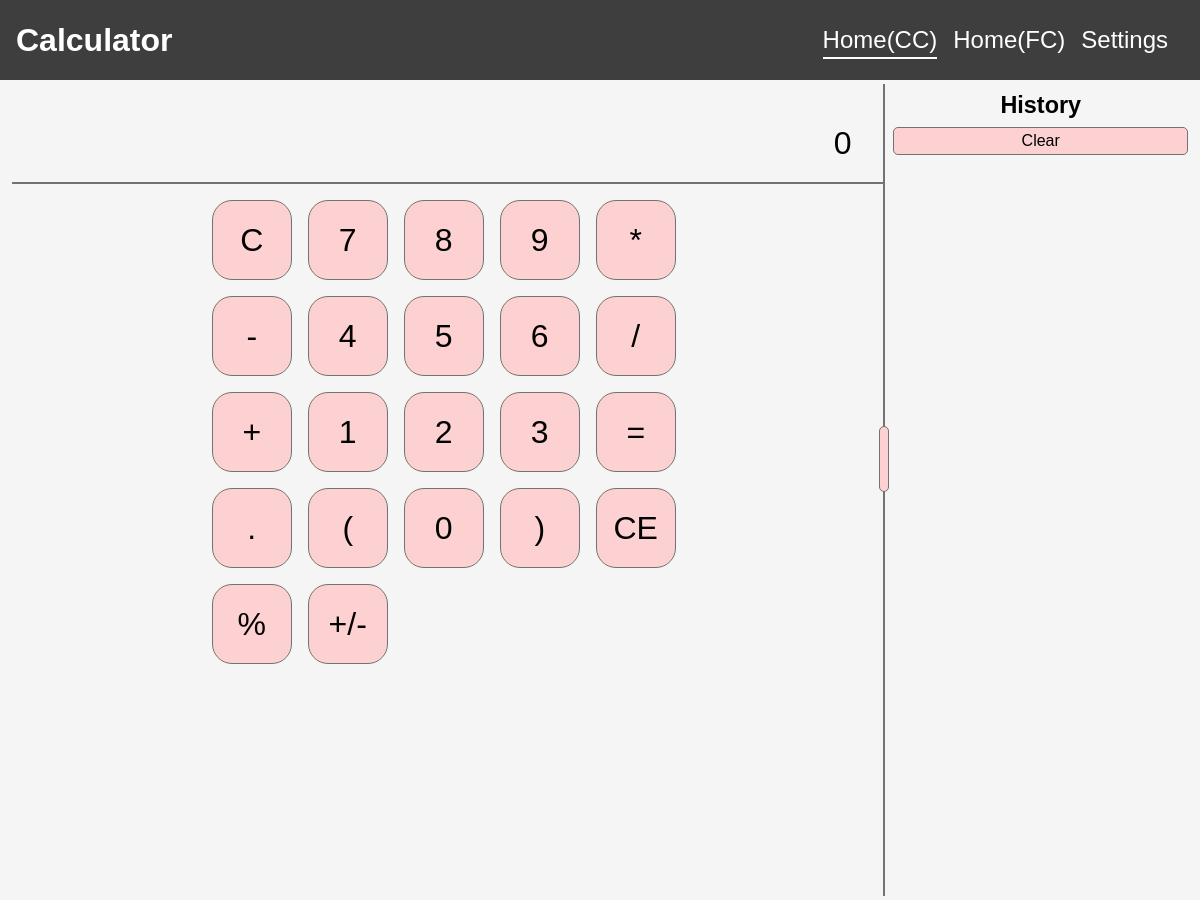
Test: Display › should render new negative values wrapped with brackets
Click the button with test id "button-8".
click(444, 240)  # box [404,200,484,280]
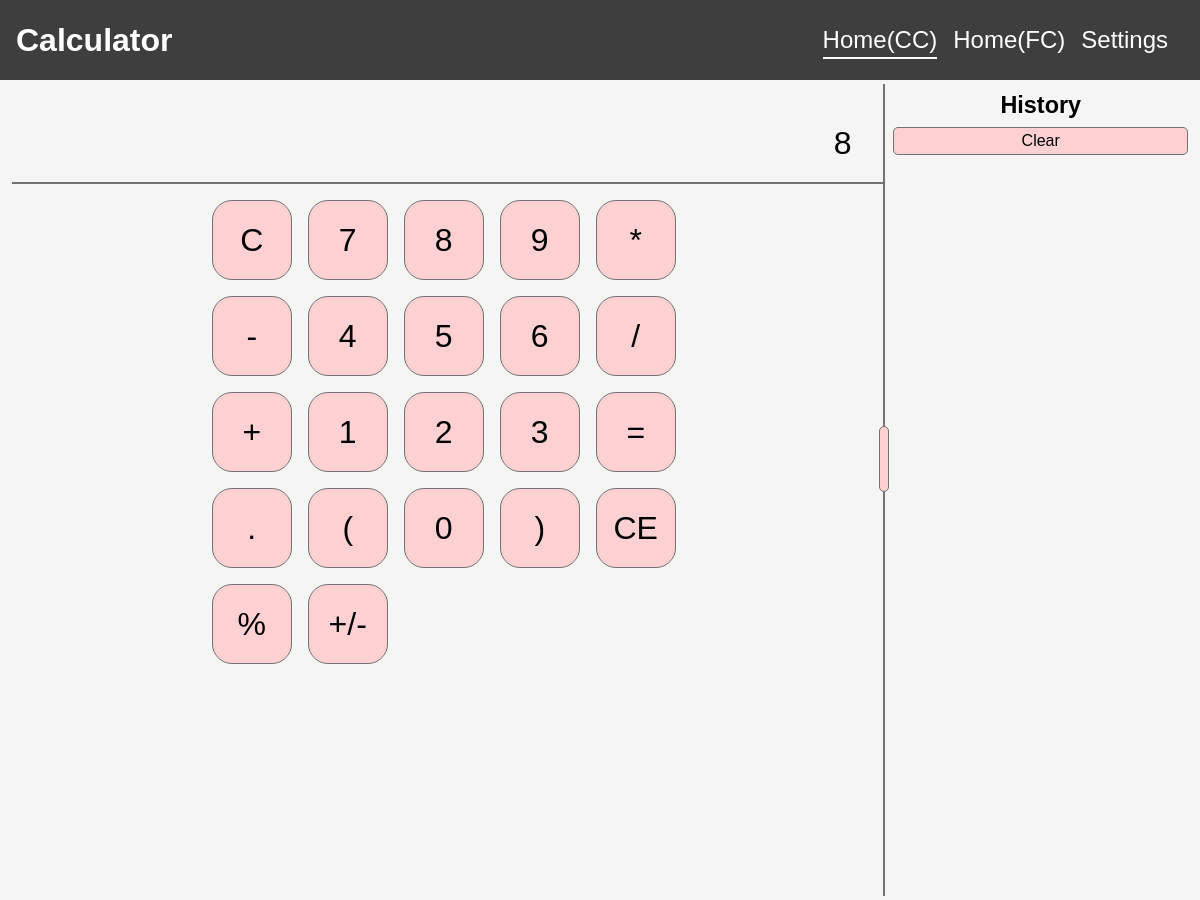
Click the button with test id "button-+/-".
click(348, 624)  # box [308,584,388,664]
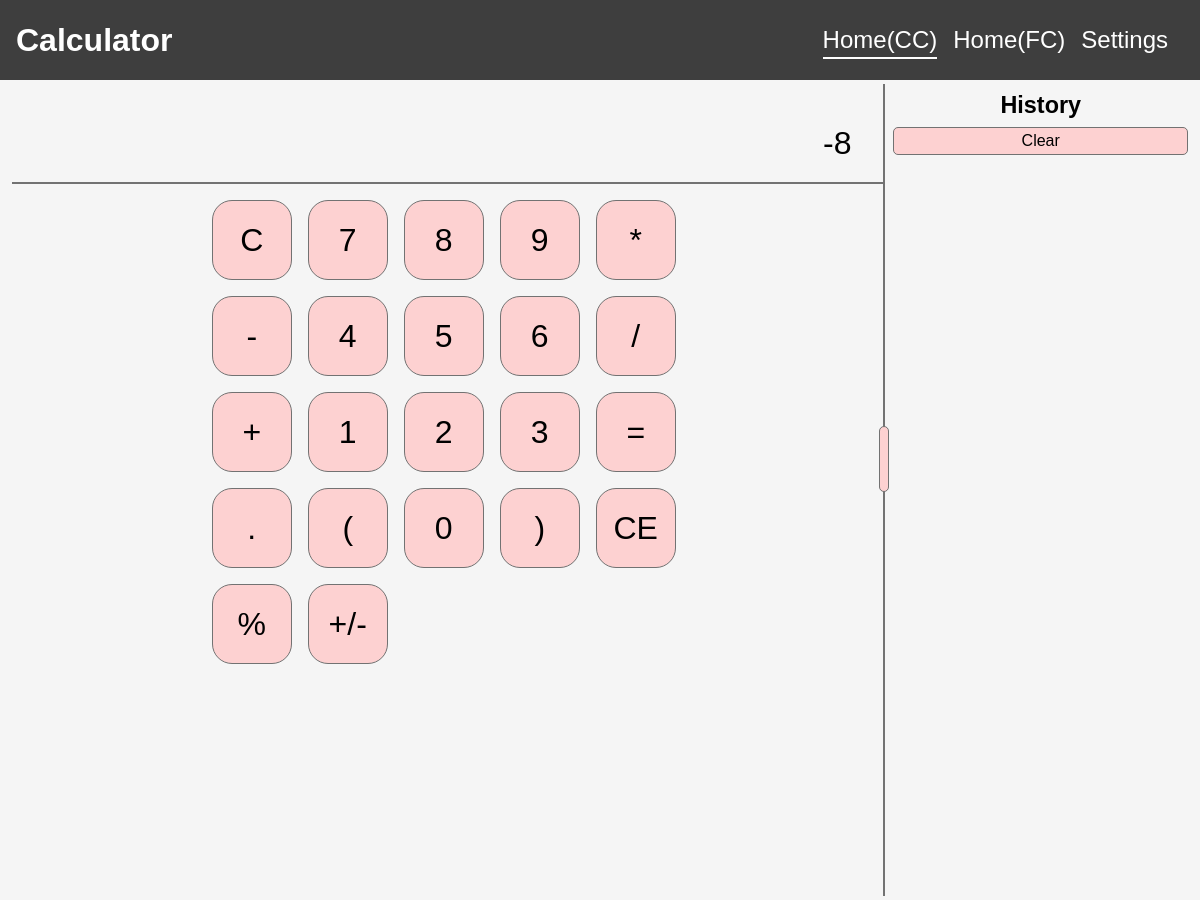
Expected: the text with test id "display-value" reads "-8", [823,125,852,157]
Click the button with test id "button-+".
click(252, 432)  # box [212,392,292,472]
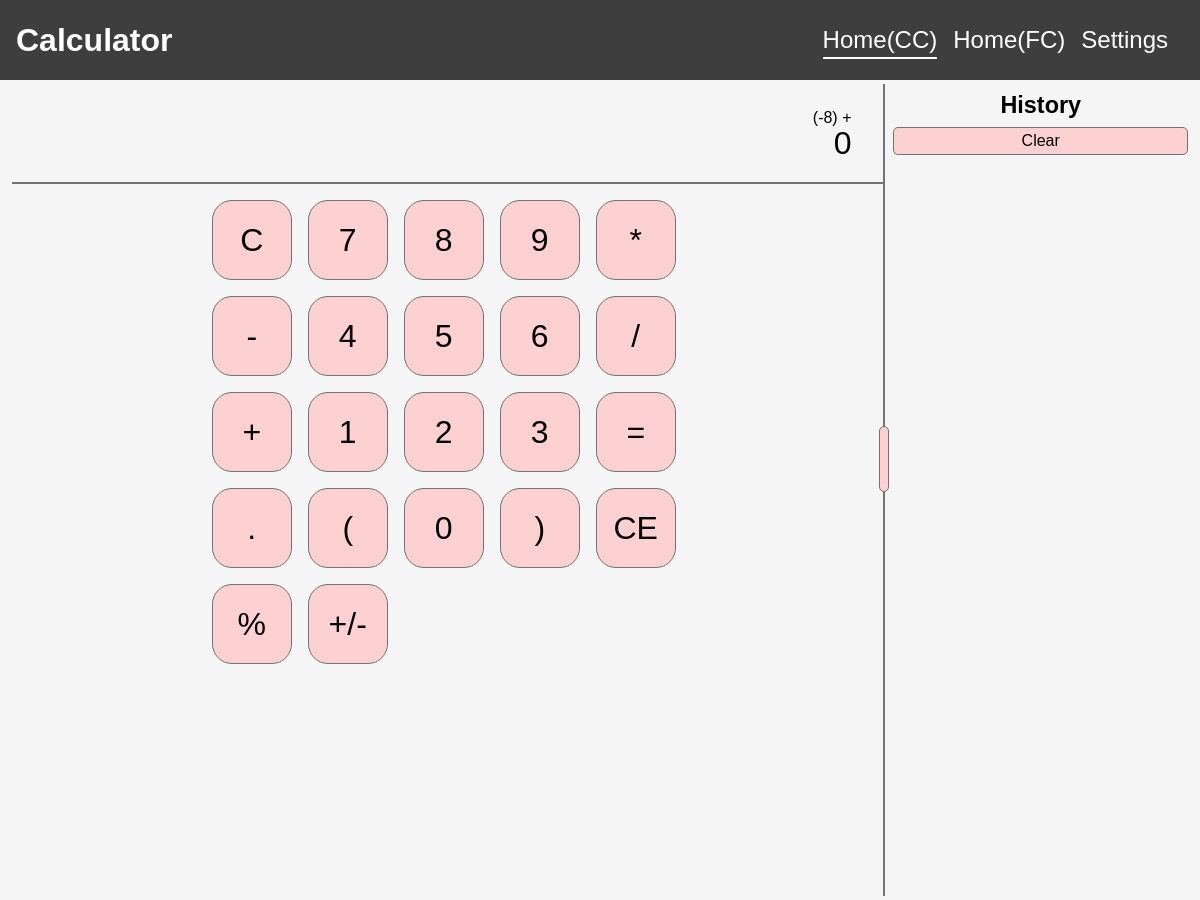
Expected: the text with test id "display-expression" reads "(-8) +", [813,109,852,125]
